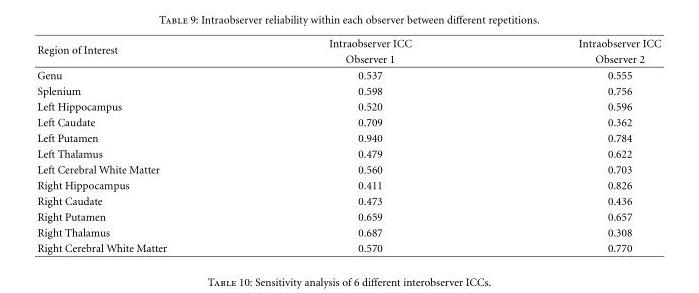table: (36, 37, 660, 253)
table column: (247, 37, 494, 253), (36, 37, 247, 253), (494, 37, 660, 253)
table column header: (36, 37, 660, 66)
table row: (36, 50, 660, 66), (36, 66, 660, 82), (36, 82, 660, 98), (36, 98, 660, 114), (36, 114, 660, 130), (36, 145, 660, 161), (36, 161, 660, 177), (36, 192, 660, 208), (36, 208, 660, 224), (36, 224, 660, 240), (36, 130, 660, 145), (36, 177, 660, 192), (36, 37, 660, 50), (36, 240, 660, 253)
table spanning cell: (247, 37, 494, 66), (36, 37, 247, 66), (494, 37, 660, 66)
